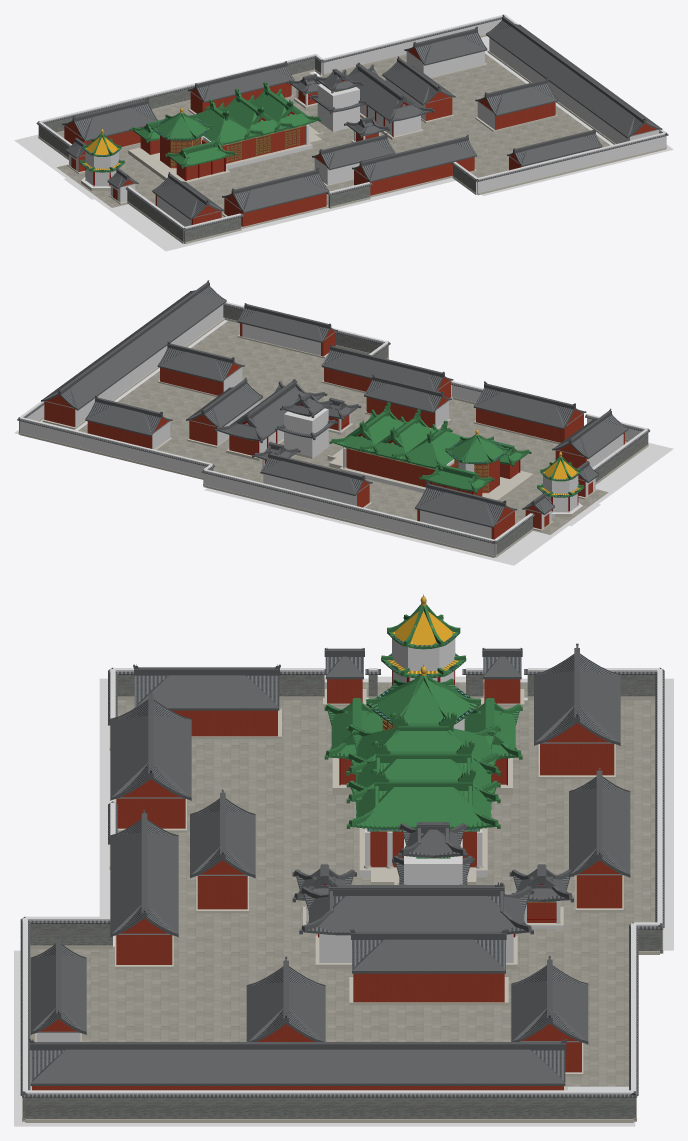
Rendered from niujiemosque.glb.
The picture shows the model from 3 angles, top to bottom: view 1: azimuth 30°, elevation 25°; view 2: azimuth 150°, elevation 25°; view 3: azimuth 270°, elevation 25°; orthographic projection. The views are drawn at different scales.
Visible parts, largest first — view 1: Massing, Mosque, FOOTPRINT_west, COL_h11, COL_h9, COL_b42, COL_b12, COL_b39, FOOTPRINT_east, COL_h1, COL_b31, COL_h7 (+3 smaller); view 2: Massing, Mosque, COL_h7, FOOTPRINT_west, COL_h9, COL_b42, COL_b12, COL_b41, COL_b33, COL_b35, COL_h1, COL_h13; view 3: Massing, Mosque, FOOTPRINT_west, FOOTPRINT_east, COL_h10, COL_b12, COL_h1, COL_h7, COL_b31, COL_h11, COL_h9.
Part boxes in pixels (x1,y1,x2,y2): Massing: (57, 25, 660, 243); Mosque: (36, 14, 668, 243); FOOTPRINT_west: (14, 72, 455, 251); COL_h11: (477, 132, 665, 194); COL_h9: (322, 15, 502, 73); COL_b42: (489, 38, 659, 143); COL_b12: (317, 84, 359, 131); COL_b39: (406, 51, 484, 77); FOOTPRINT_east: (319, 36, 673, 195); COL_h1: (85, 151, 118, 186); COL_b31: (360, 104, 420, 136); COL_h7: (39, 54, 315, 122); Massing: (42, 291, 627, 557); Mosque: (17, 280, 650, 557); COL_h7: (204, 469, 494, 555); FOOTPRINT_west: (204, 394, 673, 565); COL_h9: (19, 417, 212, 477); COL_b42: (75, 304, 223, 426); COL_b12: (284, 408, 328, 458); COL_b41: (242, 323, 320, 355); COL_b33: (263, 474, 356, 505); COL_b35: (420, 510, 491, 538); COL_h1: (543, 475, 578, 512); COL_h13: (451, 381, 483, 402); Massing: (30, 611, 662, 1090); Mosque: (20, 594, 664, 1122); FOOTPRINT_west: (99, 678, 673, 950); FOOTPRINT_east: (14, 950, 635, 1126); COL_h10: (25, 1090, 633, 1094); COL_b12: (404, 839, 462, 884); COL_h1: (392, 638, 455, 685); COL_h7: (657, 669, 662, 923); COL_b31: (319, 934, 513, 962); COL_h11: (22, 918, 27, 1091); COL_h9: (631, 923, 636, 1091).
Size of the model in its own units: 122 by 13.65 by 75.4.
Materials: 15 (7 with a texture image).
